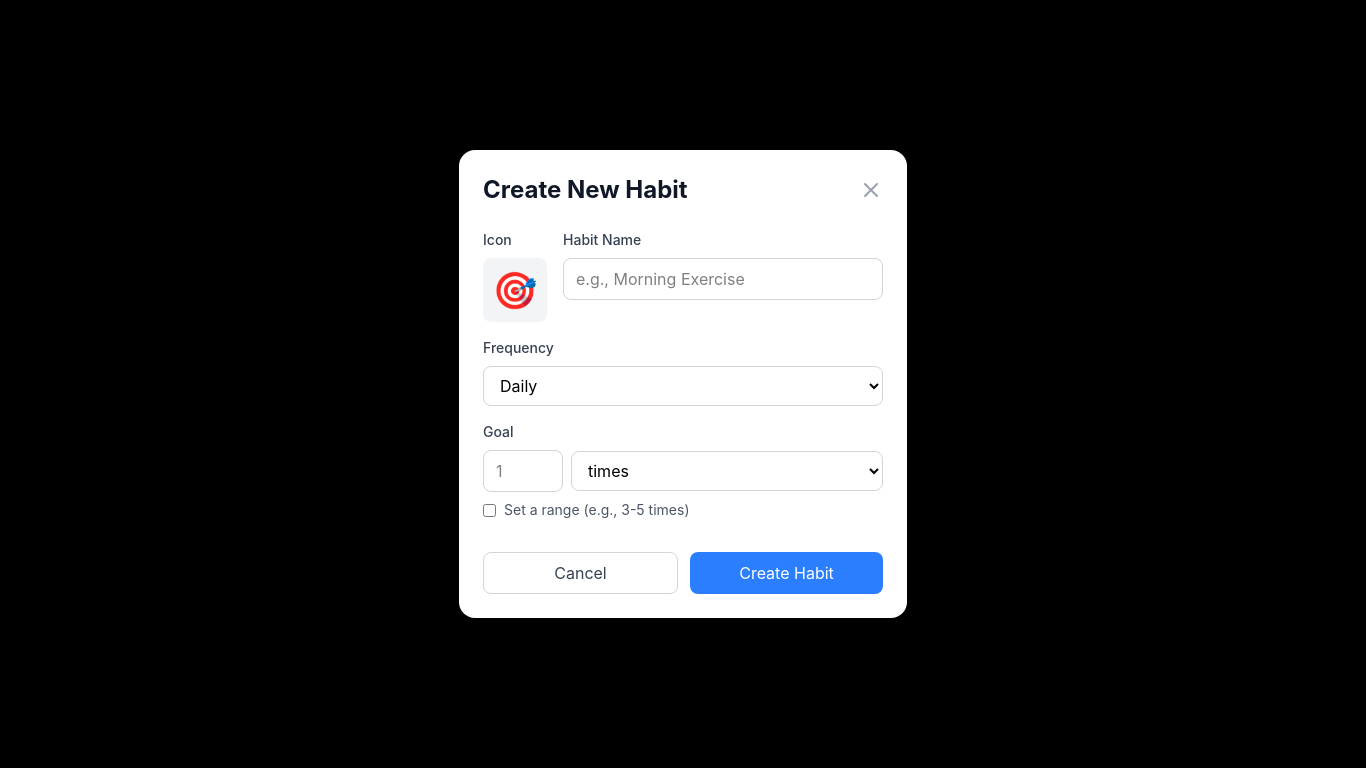
Test: HabitForm › Form Validation › shows error when name is empty
Click the button "Create Habit" at (786, 573), box [690,552,883,594]
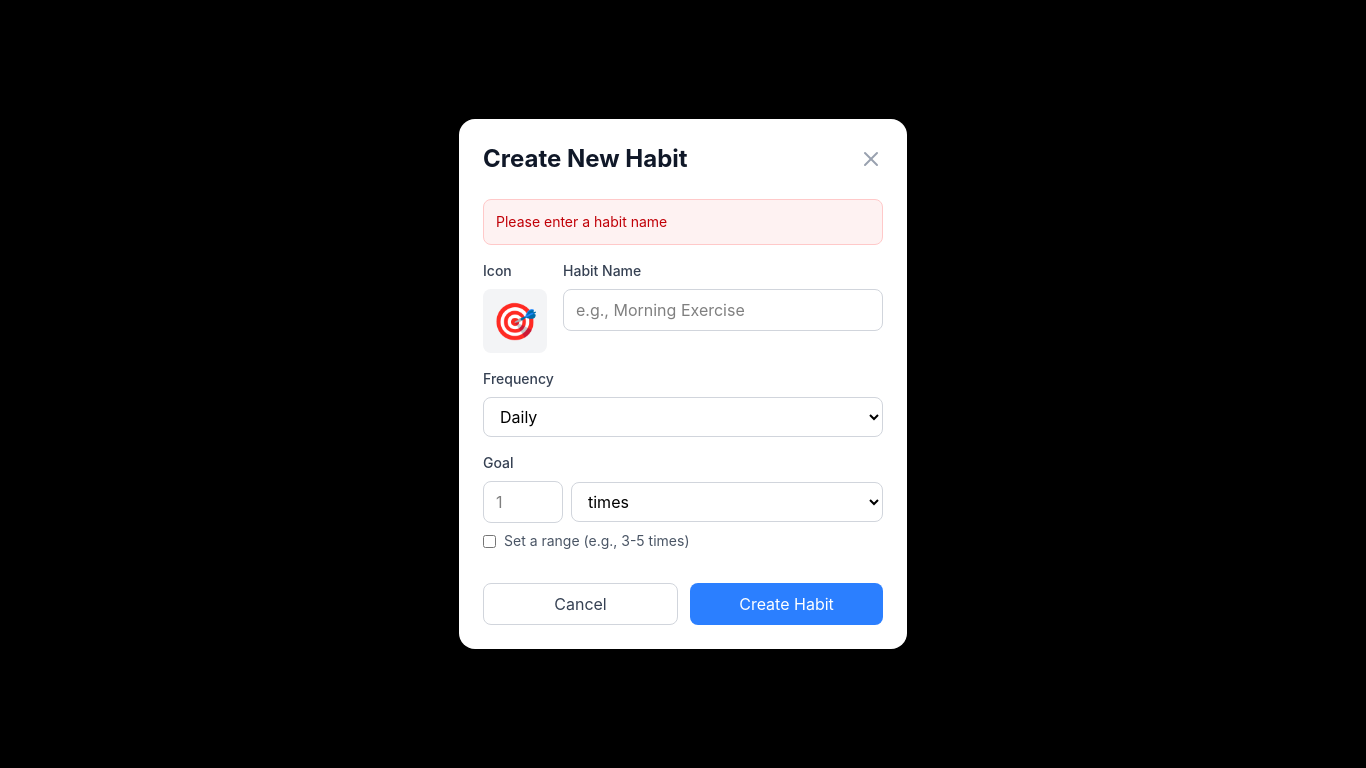
Check: the text "Please enter a habit name" is shown, box [483,199,883,245]
